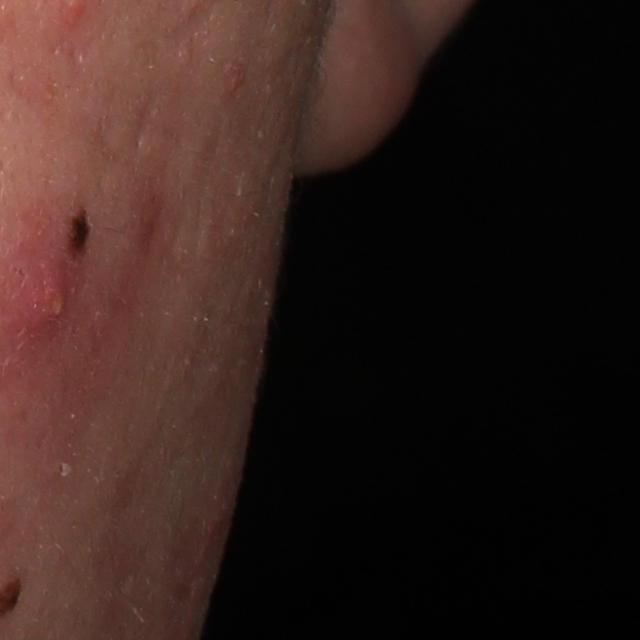atrophic_scar: (133, 93, 167, 153)
nevus: (60, 203, 98, 263)
papule: (219, 60, 249, 100)
